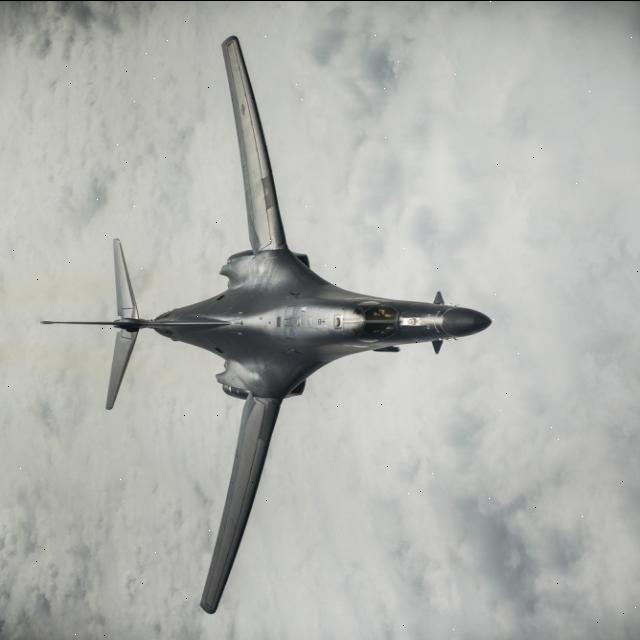B1: (14, 15, 516, 627)
